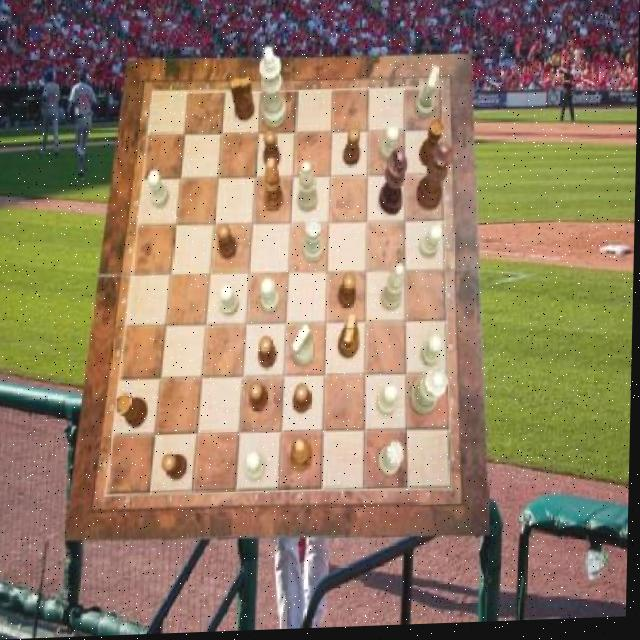bishop: (266, 159, 286, 214), (292, 440, 315, 474)
black-bishop: (381, 151, 409, 220)
black-king: (230, 79, 255, 123), (340, 317, 361, 361)
black-knight: (218, 225, 239, 262), (264, 131, 282, 170), (344, 131, 362, 170), (164, 455, 189, 483), (251, 382, 272, 414), (294, 384, 314, 416), (339, 276, 357, 311), (260, 338, 279, 371)
black-pawn: (418, 147, 455, 215)
black-queen: (117, 394, 151, 431), (420, 121, 445, 171)
black-rook: (382, 267, 406, 313), (299, 164, 320, 216)
white-bishop: (259, 48, 290, 131)
white-king: (416, 69, 440, 120), (293, 327, 316, 370)
white-knight: (148, 170, 170, 208), (420, 228, 443, 263), (378, 386, 400, 420), (262, 281, 282, 315), (424, 337, 445, 369), (220, 286, 241, 318), (248, 453, 269, 483), (382, 130, 400, 165)
white-pawn: (411, 370, 450, 419)
white-queen: (304, 221, 326, 266), (379, 443, 406, 478)
